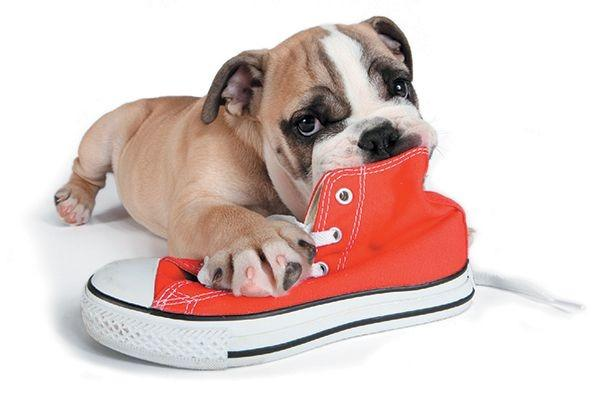puppy-dog: (54, 15, 438, 292)
